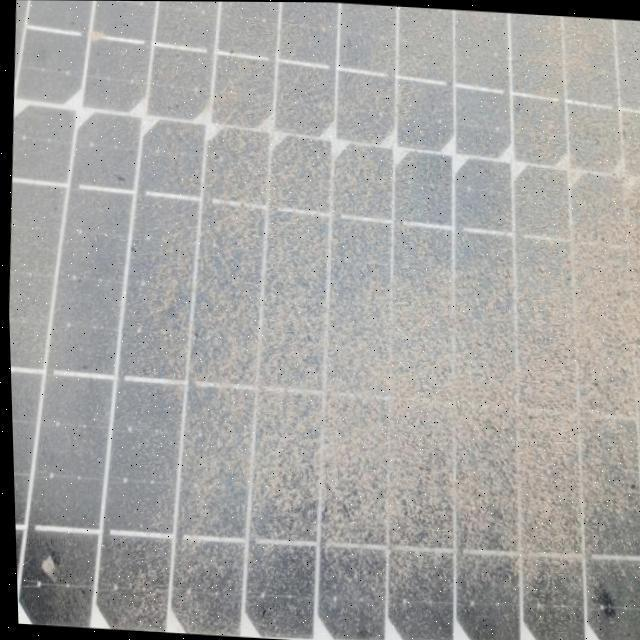Surface Contaminant: (7, 0, 640, 640)
